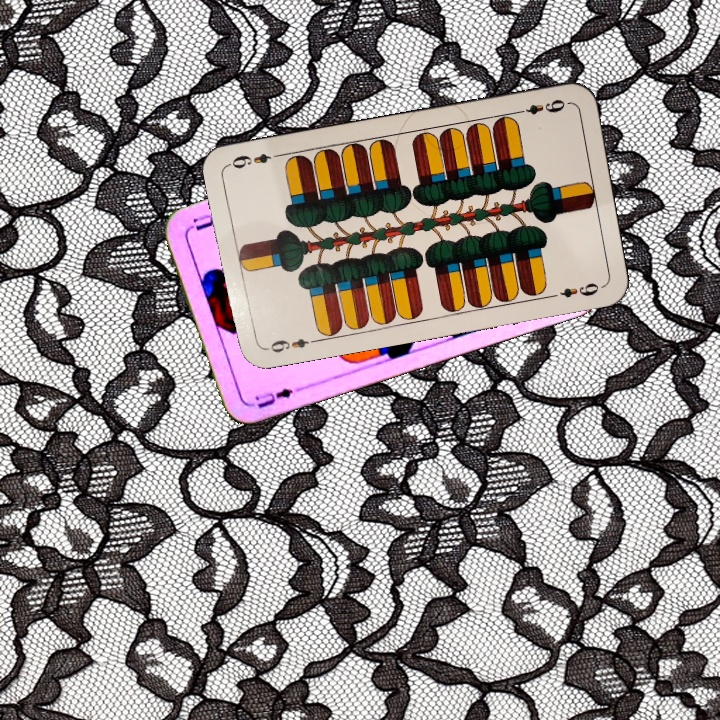E9: (511, 95, 571, 117), (260, 334, 319, 356)
EU: (245, 383, 303, 411)
